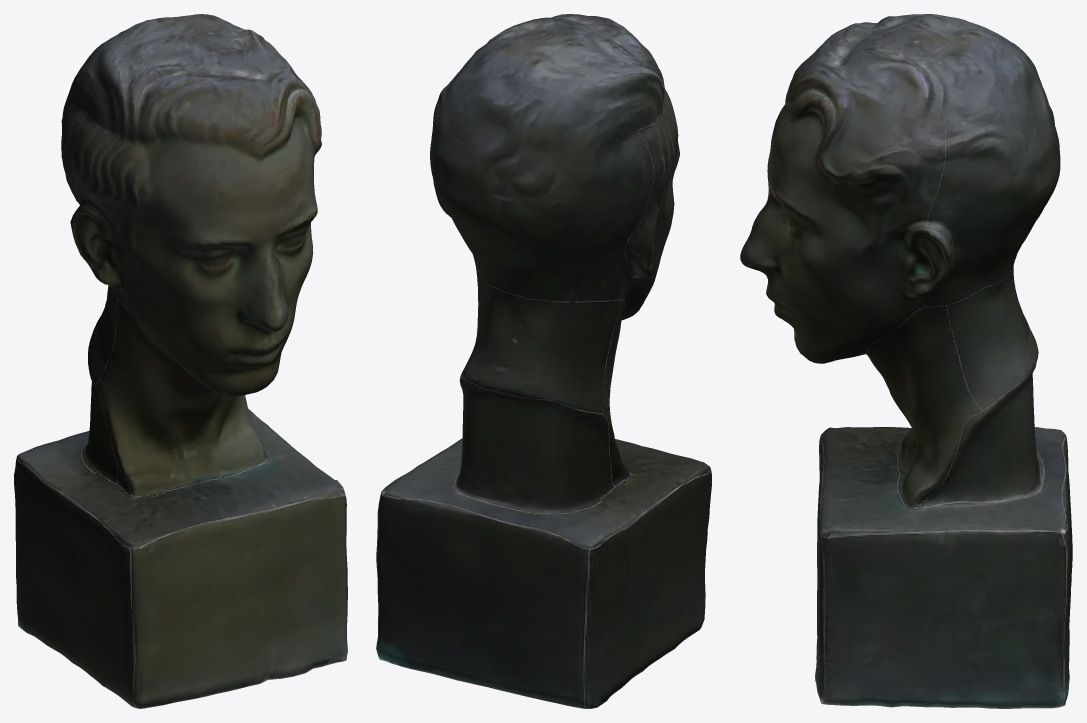
File: aladren_male_bust.glb
The picture shows the model from 3 angles, left to right: view 1: azimuth 30°, elevation 25°; view 2: azimuth 150°, elevation 25°; view 3: azimuth 270°, elevation 25°; orthographic projection. The views are drawn at different scales.
Visible parts, largest first — view 1: Object_3; view 2: Object_3; view 3: Object_3.
Part boxes in pixels (bbox=[...]): Object_3: bbox=[14, 14, 347, 708]; Object_3: bbox=[376, 14, 711, 708]; Object_3: bbox=[740, 14, 1072, 708].
Bounding box in the file's own units: 18.83 × 47.86 × 23.25.
Materials: 1 (1 with a texture image).
